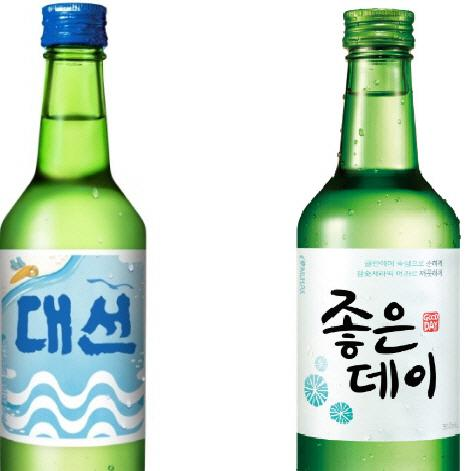soju: (294, 5, 461, 471), (1, 2, 149, 471)
